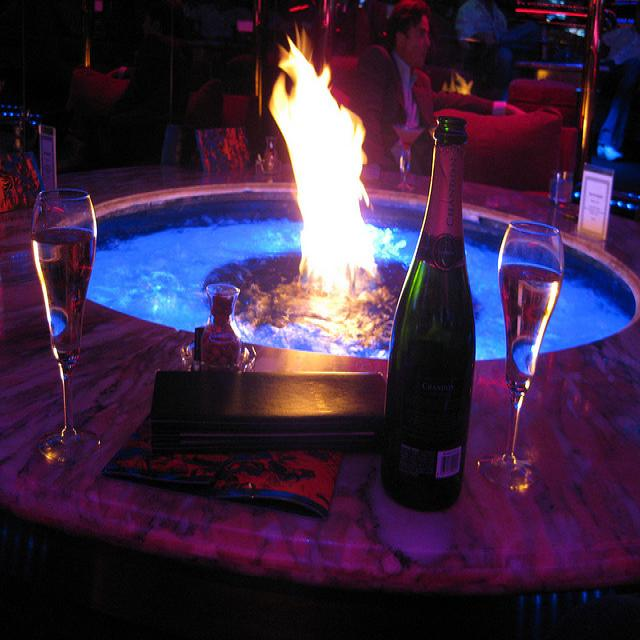Bottle: (402, 107, 490, 580)
Cup: (22, 154, 106, 495), (493, 208, 570, 508), (189, 255, 250, 386)
People: (364, 0, 434, 181)
